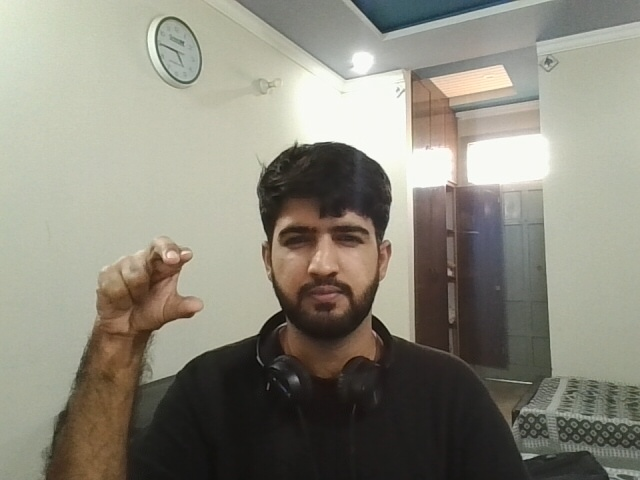No: (72, 213, 215, 343)
